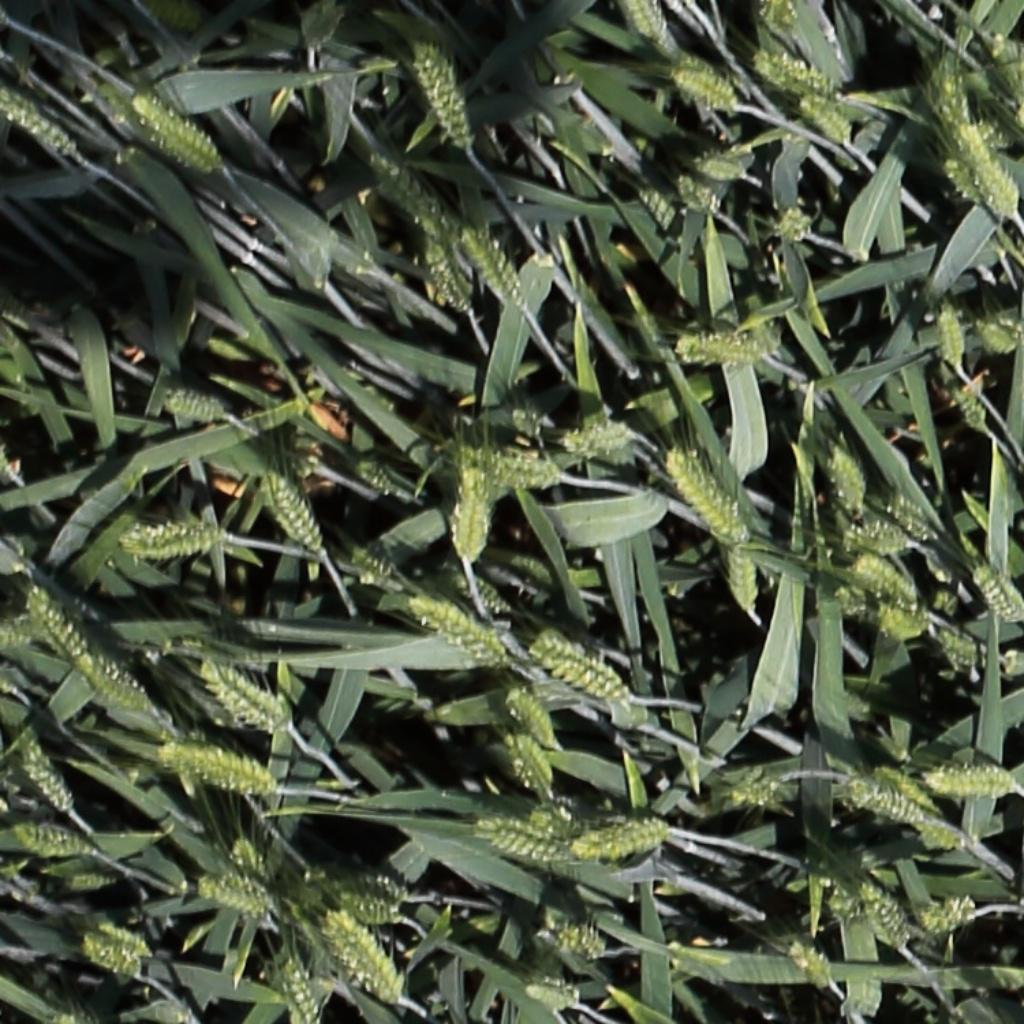0-0: (21, 582, 152, 716), (125, 92, 223, 177), (402, 594, 505, 670), (663, 449, 742, 546), (320, 909, 395, 1007), (408, 40, 472, 154), (199, 659, 291, 738), (953, 116, 1022, 217), (533, 638, 629, 708), (256, 466, 327, 559), (454, 222, 527, 311), (156, 743, 270, 794), (364, 151, 445, 221), (1, 87, 76, 157), (16, 733, 76, 820), (571, 815, 677, 863), (456, 445, 565, 490), (476, 820, 572, 870), (449, 462, 494, 568), (417, 236, 473, 316), (499, 682, 558, 756), (854, 877, 910, 954), (663, 59, 737, 117), (676, 323, 779, 364), (121, 523, 231, 561), (845, 780, 925, 830), (968, 559, 1024, 629), (501, 729, 554, 802), (850, 558, 920, 611), (924, 761, 1019, 797), (873, 765, 939, 816), (782, 935, 836, 995), (824, 442, 868, 514), (795, 90, 853, 144), (756, 54, 832, 95), (275, 953, 318, 1024), (8, 821, 94, 856), (625, 0, 676, 59), (223, 834, 273, 894), (202, 874, 270, 918), (561, 421, 639, 459), (937, 151, 988, 208), (321, 875, 413, 906), (630, 178, 681, 233), (946, 378, 992, 438), (727, 535, 757, 621), (917, 892, 973, 937), (932, 299, 966, 372), (455, 574, 511, 618), (79, 936, 139, 977), (671, 167, 719, 215), (891, 491, 937, 540), (840, 520, 906, 554), (916, 815, 970, 853), (92, 922, 147, 959), (334, 894, 398, 925), (160, 390, 225, 420), (973, 316, 1019, 356), (940, 632, 986, 670), (692, 154, 745, 184), (550, 928, 604, 957), (352, 458, 394, 495), (149, 1, 202, 30), (727, 777, 776, 808), (521, 984, 577, 1010), (775, 206, 811, 243)
